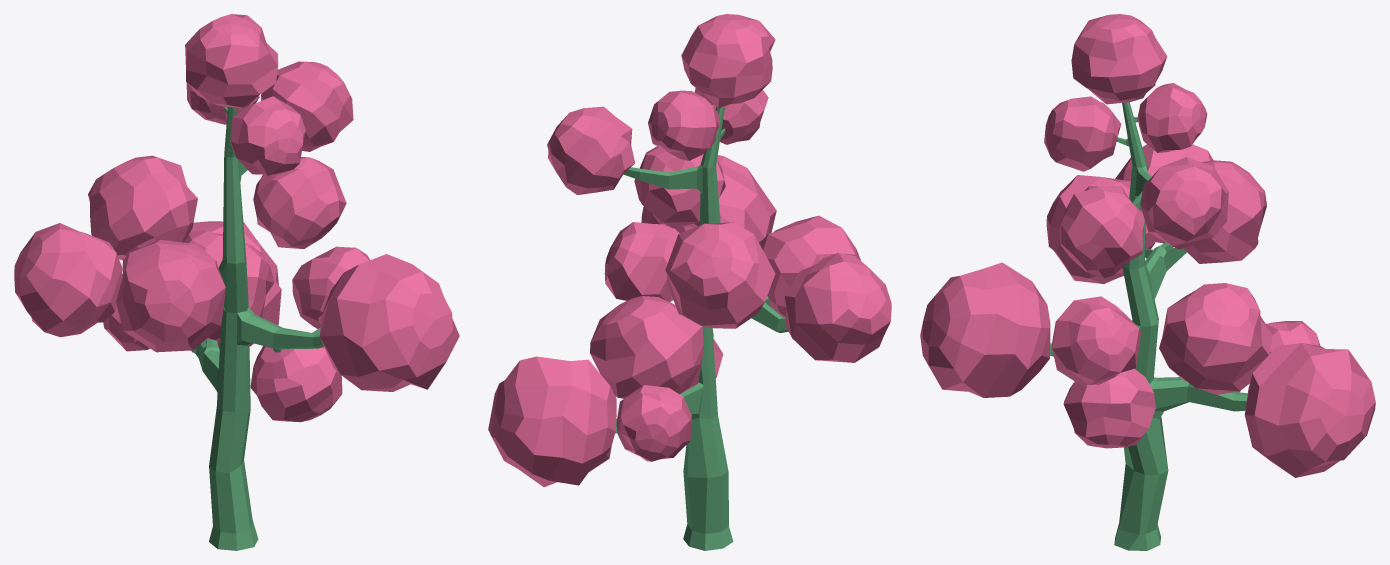
Rendered from Tree_stem_01.034.fbx.
The picture shows the model from 3 angles, left to right: view 1: azimuth 30°, elevation 25°; view 2: azimuth 150°, elevation 25°; view 3: azimuth 270°, elevation 25°; orthographic projection. The views are drawn at different scales.
Parts seen in each view (by area): view 1: Tree_stem_01.034; view 2: Tree_stem_01.034; view 3: Tree_stem_01.034.
Boxes of the visible parts, <box> form: Tree_stem_01.034: <box>14,14,459,550</box>; Tree_stem_01.034: <box>488,14,891,550</box>; Tree_stem_01.034: <box>920,14,1375,550</box>.
Size of the model in its own units: 507 by 759 by 608.
